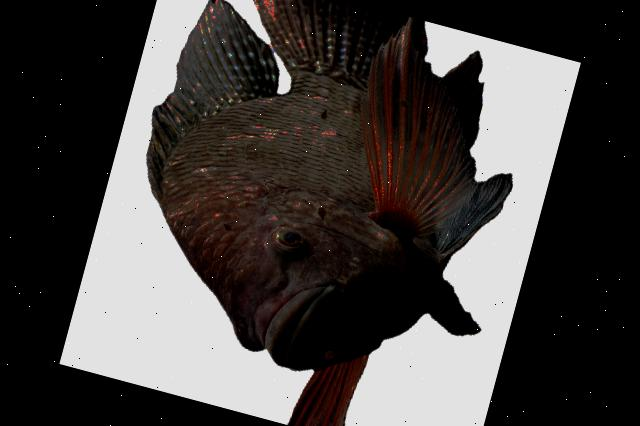Parasitic Disease: (147, 0, 512, 426), (148, 0, 512, 426)
